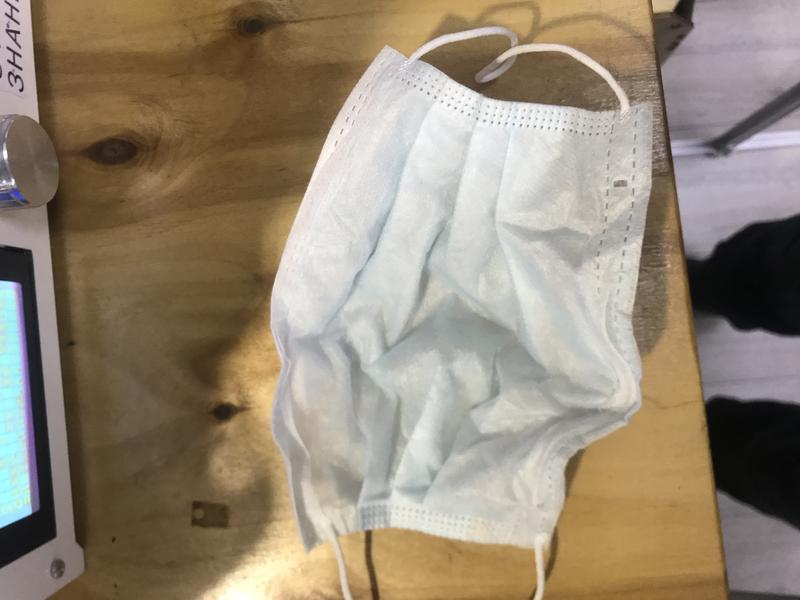medical_mask: (271, 25, 654, 600)
